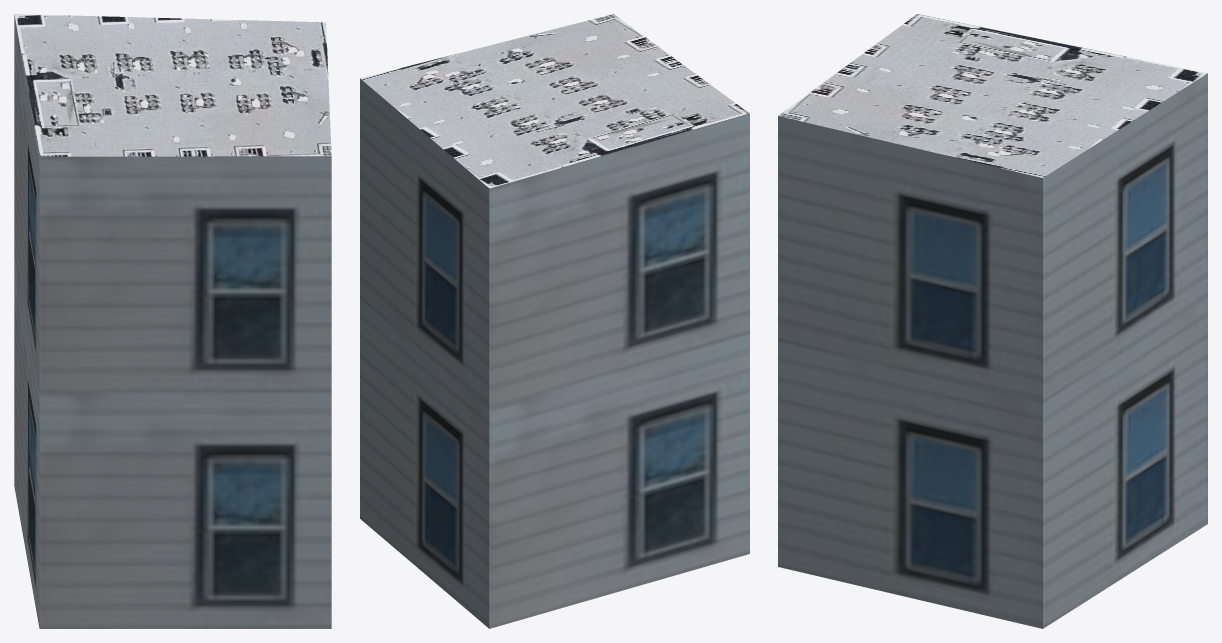
Rendered from ResTex__4023.fbx.
The picture shows the model from 3 angles, left to right: view 1: azimuth 30°, elevation 25°; view 2: azimuth 150°, elevation 25°; view 3: azimuth 270°, elevation 25°; orthographic projection. The views are drawn at different scales.
Parts seen in each view (by area): view 1: CityEngineMaterial_18_m, CityEngineMaterial_8_m; view 2: CityEngineMaterial_18_m, CityEngineMaterial_8_m; view 3: CityEngineMaterial_18_m, CityEngineMaterial_8_m.
Boxes of the visible parts, x1,y1,x2,y2 form: CityEngineMaterial_18_m: [14, 15, 331, 628]; CityEngineMaterial_8_m: [14, 14, 331, 156]; CityEngineMaterial_18_m: [360, 78, 749, 628]; CityEngineMaterial_8_m: [360, 14, 749, 188]; CityEngineMaterial_18_m: [778, 73, 1207, 628]; CityEngineMaterial_8_m: [778, 14, 1207, 177].
Bounding box in the file's own units: 4.68 × 6 × 5.19.
Materials: 2 (2 with a texture image).
